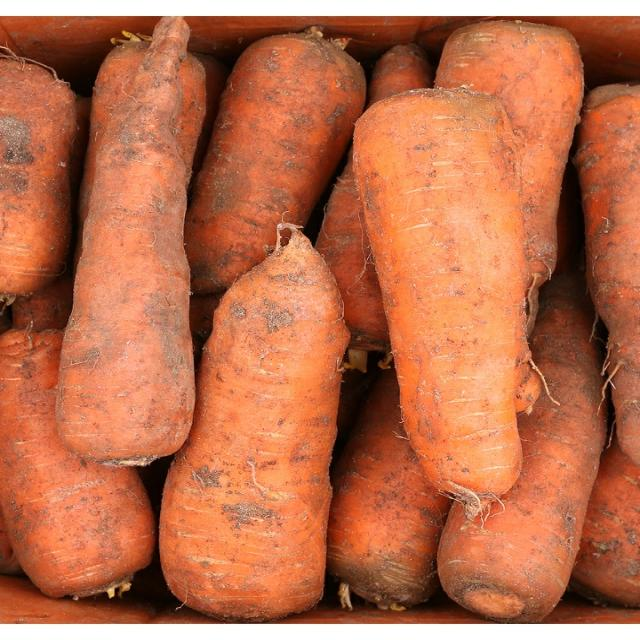carrot: (348, 86, 530, 505), (162, 228, 343, 626), (55, 24, 205, 470)
